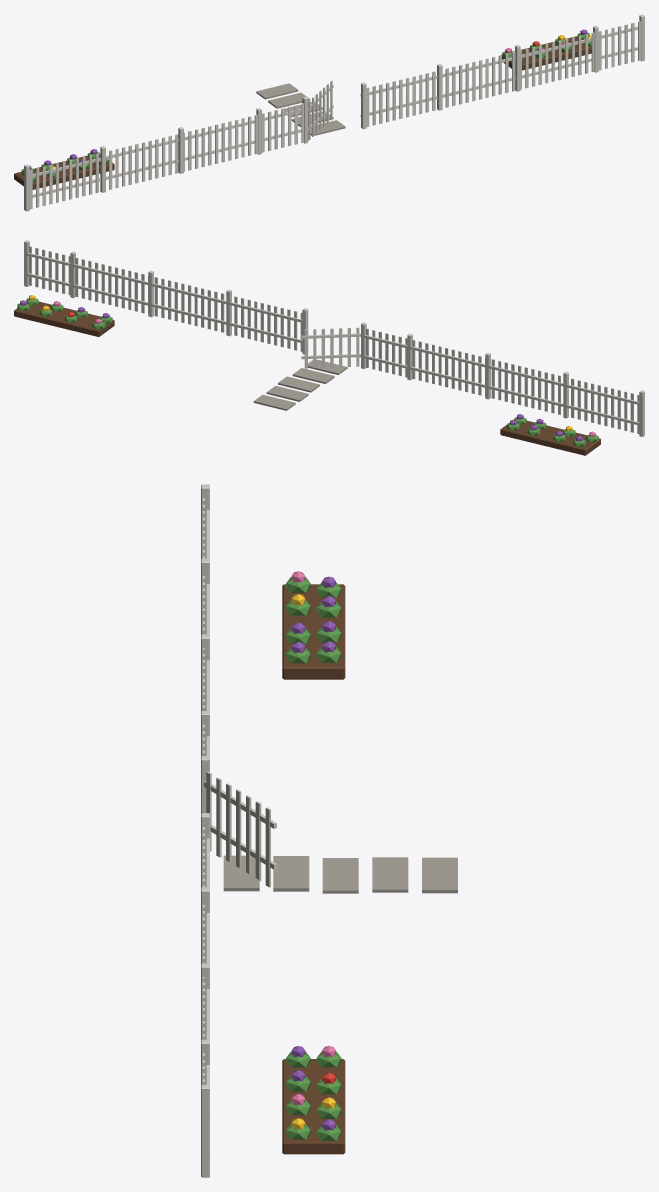
The model's file is Yard_Picket_14.fbx.
3 views of the same model, one above another, from view 1: azimuth 30°, elevation 25°; view 2: azimuth 150°, elevation 25°; view 3: azimuth 270°, elevation 25° (orthographic). The views are drawn at different scales.
Visible parts, largest first — view 1: Yard_Picket_14; view 2: Yard_Picket_14; view 3: Yard_Picket_14.
Part boxes in pixels (x1,y1,x2,y2): Yard_Picket_14: (14,14,644,211); Yard_Picket_14: (14,240,644,455); Yard_Picket_14: (201,484,457,1177).
Bounding box in the file's own units: 15.87 × 1.1 × 2.85.
